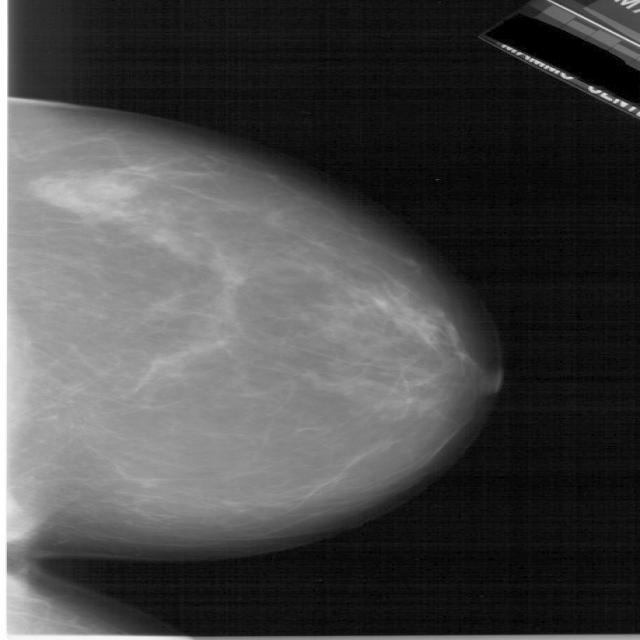tumour: (209, 256, 245, 298)
